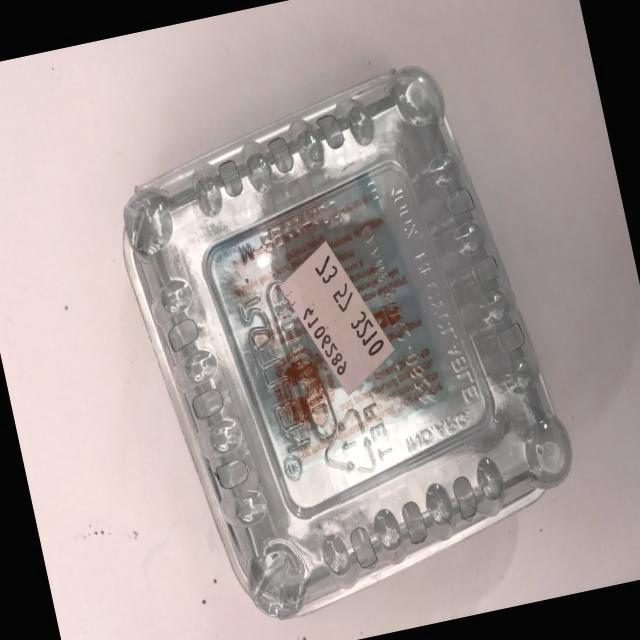plastic: (87, 28, 619, 640)
